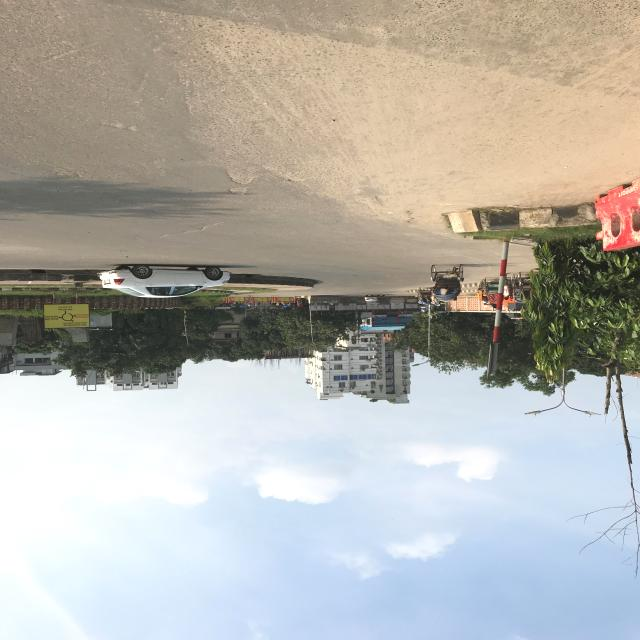white: (97, 266, 232, 298)
